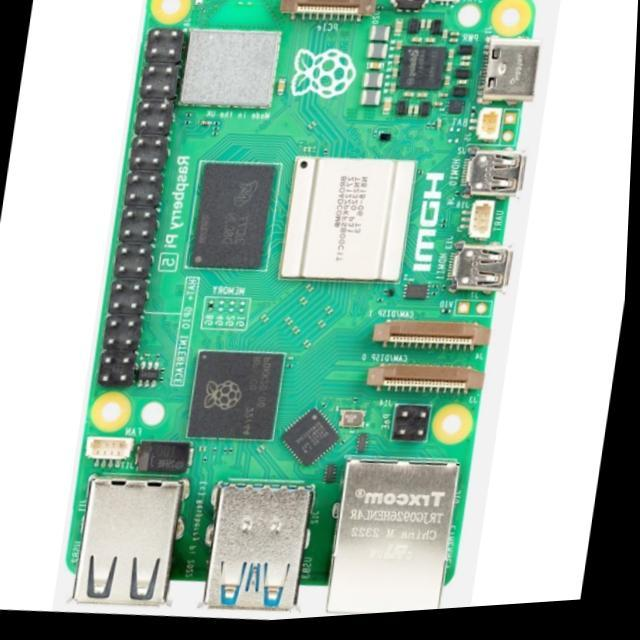Raspberry-Pi-5: (66, 1, 541, 614)
